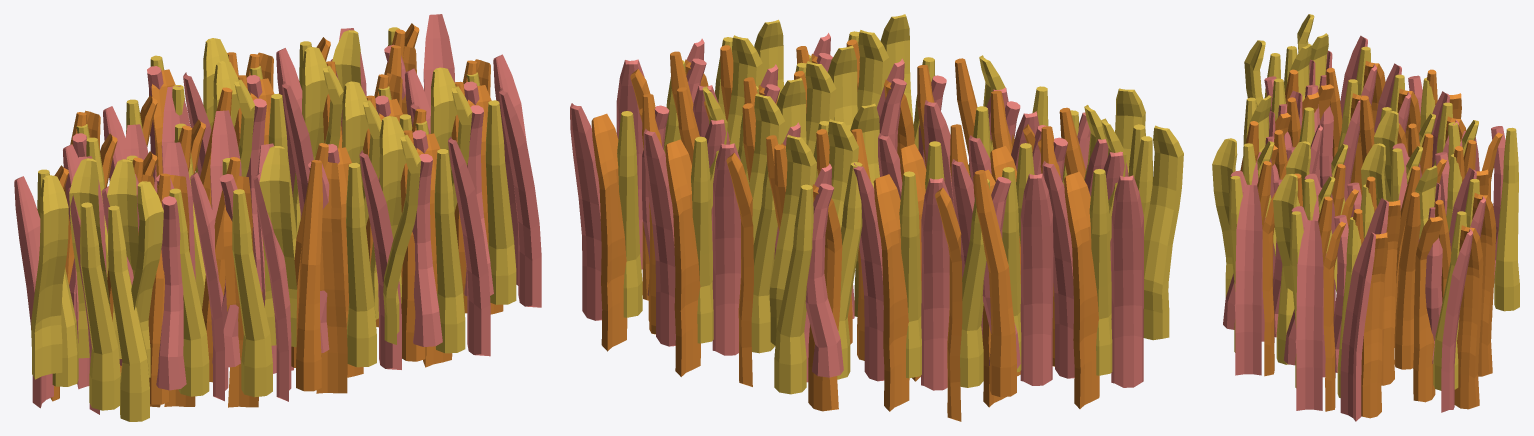
Rendered from Gras 2.1.fbx.
The picture shows the model from 3 angles, left to right: view 1: azimuth 30°, elevation 25°; view 2: azimuth 150°, elevation 25°; view 3: azimuth 270°, elevation 25°; orthographic projection. The views are drawn at different scales.
Visible parts, largest first — view 1: Cube.287; view 2: Cube.287; view 3: Cube.287.
Boxes of the visible parts, <box> form: Cube.287: <box>14,14,541,421</box>; Cube.287: <box>570,14,1183,421</box>; Cube.287: <box>1212,14,1519,421</box>.
Size of the model in its own units: 3801 by 1762 by 2337.
